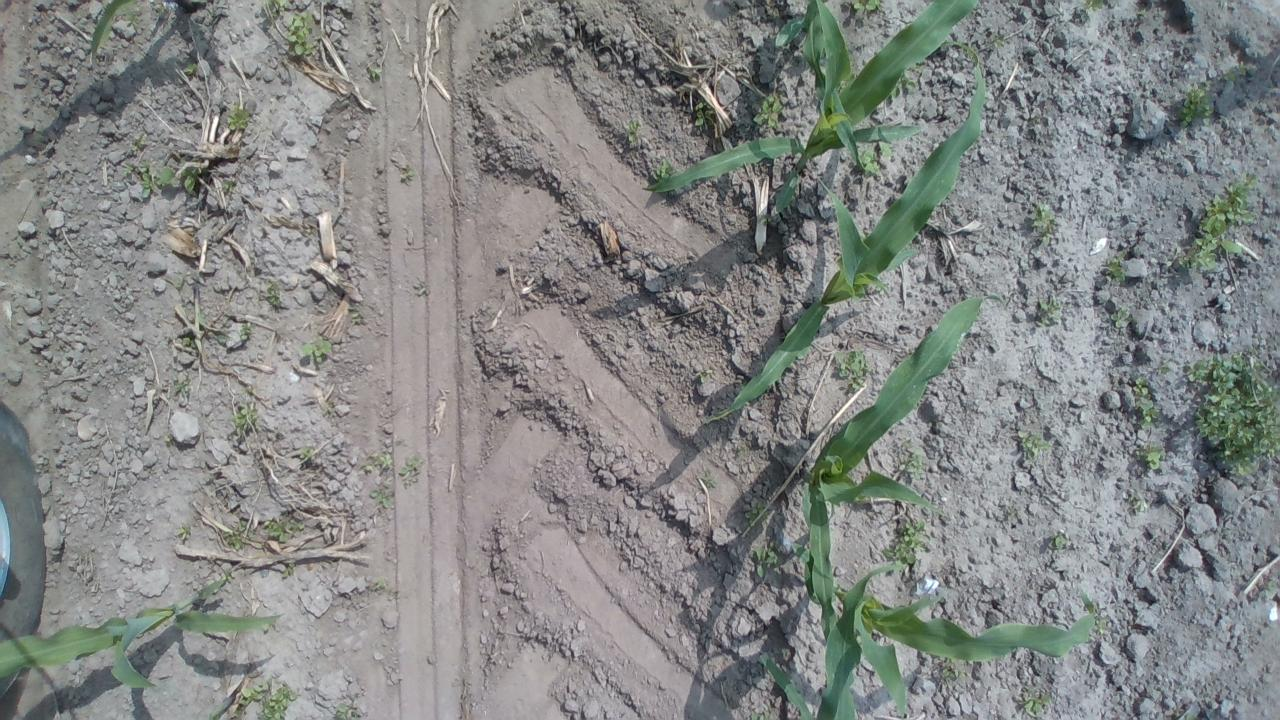Maize: (700, 36, 986, 432), (795, 290, 1002, 640), (648, 0, 988, 198), (769, 582, 1098, 720), (0, 559, 290, 703), (82, 4, 140, 70)
Weeds: (1186, 347, 1280, 476), (1178, 177, 1260, 273), (232, 678, 295, 718), (882, 517, 928, 571), (1132, 362, 1165, 434), (160, 162, 214, 197), (1178, 80, 1218, 127), (830, 348, 870, 393), (178, 314, 225, 351), (282, 14, 316, 60), (1014, 682, 1056, 718), (750, 92, 789, 129), (121, 160, 158, 198), (1033, 204, 1063, 250), (856, 142, 894, 178), (1014, 429, 1054, 461), (739, 494, 773, 530), (1036, 289, 1068, 327), (1134, 441, 1166, 478), (264, 514, 306, 542), (900, 446, 930, 485), (693, 98, 722, 136), (298, 332, 332, 364), (358, 450, 394, 480), (230, 397, 256, 437), (748, 544, 782, 574), (652, 154, 682, 187), (1100, 253, 1132, 283), (397, 452, 426, 485), (1220, 62, 1258, 87), (226, 104, 253, 138), (934, 660, 972, 684), (260, 284, 290, 314), (222, 521, 248, 553), (894, 70, 920, 100), (258, 0, 284, 29), (1036, 530, 1070, 552), (333, 699, 368, 720), (370, 484, 398, 510), (624, 120, 648, 150), (178, 53, 204, 80), (232, 320, 258, 346), (1126, 490, 1154, 514), (346, 302, 368, 332), (292, 443, 317, 468), (694, 467, 720, 491), (850, 0, 886, 17), (398, 159, 417, 188), (1107, 305, 1128, 331), (124, 132, 150, 152), (173, 520, 194, 544), (364, 59, 382, 86), (366, 574, 391, 593), (170, 374, 192, 395), (410, 276, 429, 300), (220, 171, 238, 196), (1080, 0, 1108, 16), (987, 28, 1006, 50)
